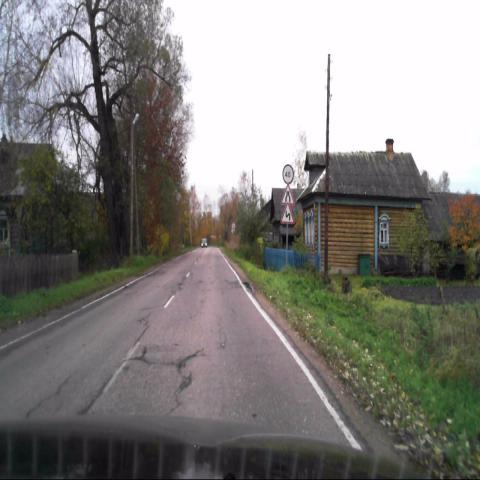1_12_2: (280, 204, 294, 223)
1_20: (281, 184, 294, 205)
